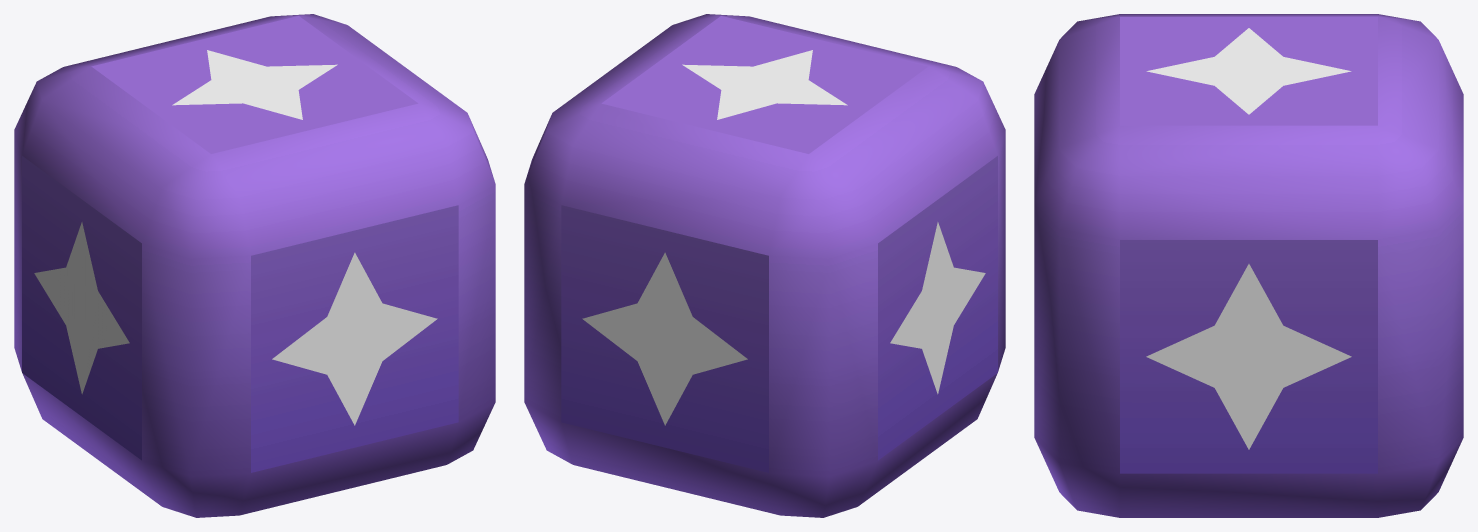
File: presentlada.glb
3 views of the same model, side by side, from view 1: azimuth 30°, elevation 25°; view 2: azimuth 150°, elevation 25°; view 3: azimuth 270°, elevation 25° (orthographic). The views are drawn at different scales.
Parts seen in each view (by area): view 1: item-box; view 2: item-box; view 3: item-box.
Part boxes in pixels (x1,y1,x2,y2): item-box: (14,14,495,517); item-box: (524,14,1005,517); item-box: (1034,14,1463,517).
Bounding box in the file's own units: 0.445 × 0.445 × 0.445.
Materials: 1 (1 with a texture image).
